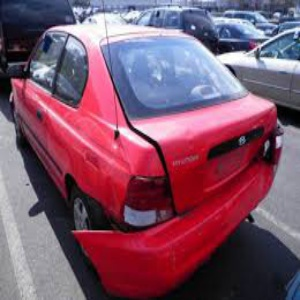bumper: (63, 222, 212, 300)
